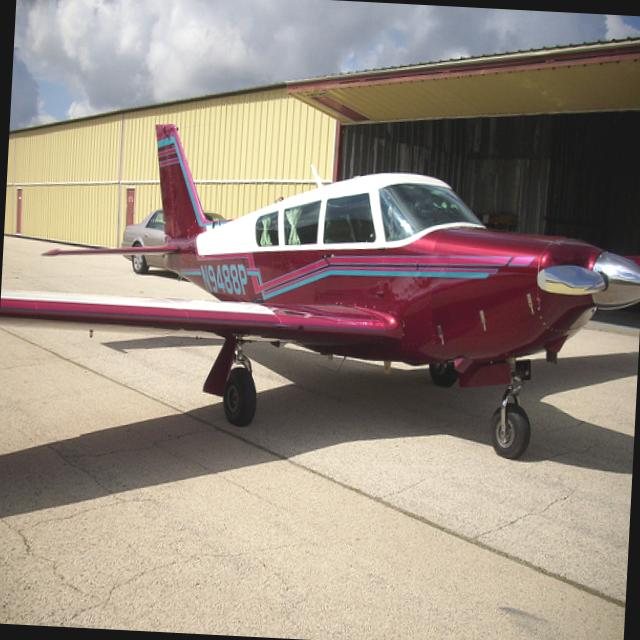Vehicle: (120, 207, 230, 278)
